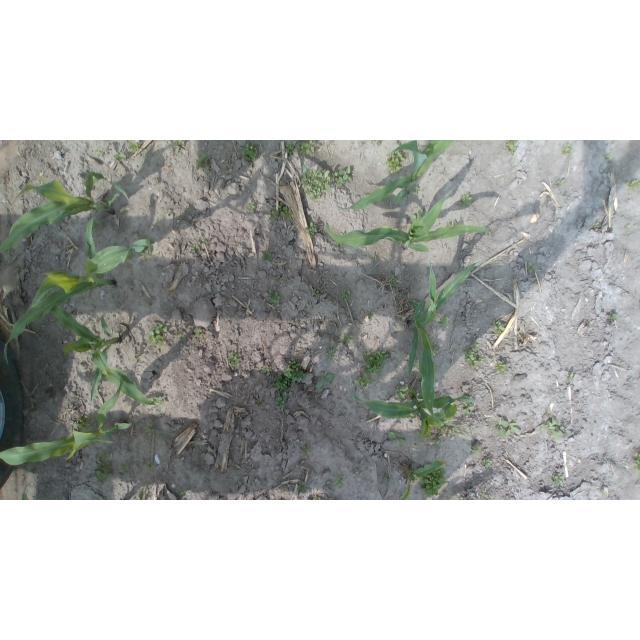Maize: (5, 218, 154, 362), (403, 258, 479, 426), (0, 370, 132, 466), (50, 304, 159, 408), (1, 171, 130, 254), (328, 193, 489, 253), (348, 374, 475, 442), (339, 141, 458, 212), (396, 460, 448, 501), (21, 481, 129, 500)
Weeds: (300, 165, 331, 202), (419, 467, 447, 498), (435, 424, 474, 444), (541, 416, 571, 441), (273, 373, 292, 412), (94, 451, 115, 486), (361, 349, 389, 375), (463, 340, 486, 369), (145, 321, 167, 347), (266, 201, 293, 221), (284, 360, 307, 383), (386, 150, 405, 174), (497, 419, 521, 438), (332, 166, 353, 187), (242, 140, 261, 162), (73, 415, 98, 431), (355, 373, 374, 392), (316, 372, 335, 389), (298, 140, 316, 157), (227, 349, 242, 369), (389, 431, 408, 445), (267, 290, 283, 306), (458, 403, 475, 417), (458, 193, 474, 207), (196, 153, 209, 170), (394, 385, 408, 400), (300, 440, 313, 456), (492, 318, 505, 334), (505, 140, 518, 156), (632, 453, 640, 478), (435, 315, 450, 328), (307, 222, 318, 239), (625, 179, 640, 191), (404, 299, 421, 309), (285, 142, 298, 155), (92, 218, 105, 231), (175, 330, 187, 343), (114, 149, 127, 161), (411, 208, 423, 221), (340, 333, 354, 344), (325, 345, 335, 360), (296, 481, 308, 493), (552, 476, 565, 487), (497, 361, 508, 374), (341, 289, 352, 302), (144, 423, 155, 436), (479, 459, 493, 469), (152, 395, 166, 405), (262, 249, 273, 261), (129, 140, 140, 152), (135, 489, 147, 500), (142, 247, 151, 261), (245, 201, 256, 212), (172, 140, 182, 152), (334, 475, 344, 487), (138, 237, 155, 244), (431, 343, 440, 356), (389, 274, 398, 287), (119, 462, 129, 473), (146, 461, 157, 471), (606, 313, 618, 322), (445, 220, 458, 228), (526, 261, 536, 271), (194, 328, 203, 339), (126, 250, 135, 261), (562, 143, 570, 155), (566, 373, 575, 383), (178, 489, 188, 498), (312, 288, 320, 299), (157, 432, 166, 441), (557, 180, 566, 189), (95, 147, 103, 157), (372, 140, 385, 146), (255, 399, 263, 408), (606, 152, 613, 162), (481, 494, 492, 500), (262, 366, 270, 374), (202, 236, 210, 244), (471, 444, 479, 452), (366, 312, 374, 320), (413, 185, 420, 194), (189, 243, 199, 249), (355, 467, 362, 475), (4, 249, 13, 255), (275, 275, 281, 283), (134, 353, 142, 359), (371, 255, 377, 262), (383, 478, 390, 483), (603, 490, 608, 496), (595, 222, 601, 227), (487, 231, 492, 237), (368, 416, 373, 421), (298, 286, 303, 291), (626, 225, 630, 230), (472, 497, 478, 500), (296, 319, 300, 323), (317, 497, 321, 500)
